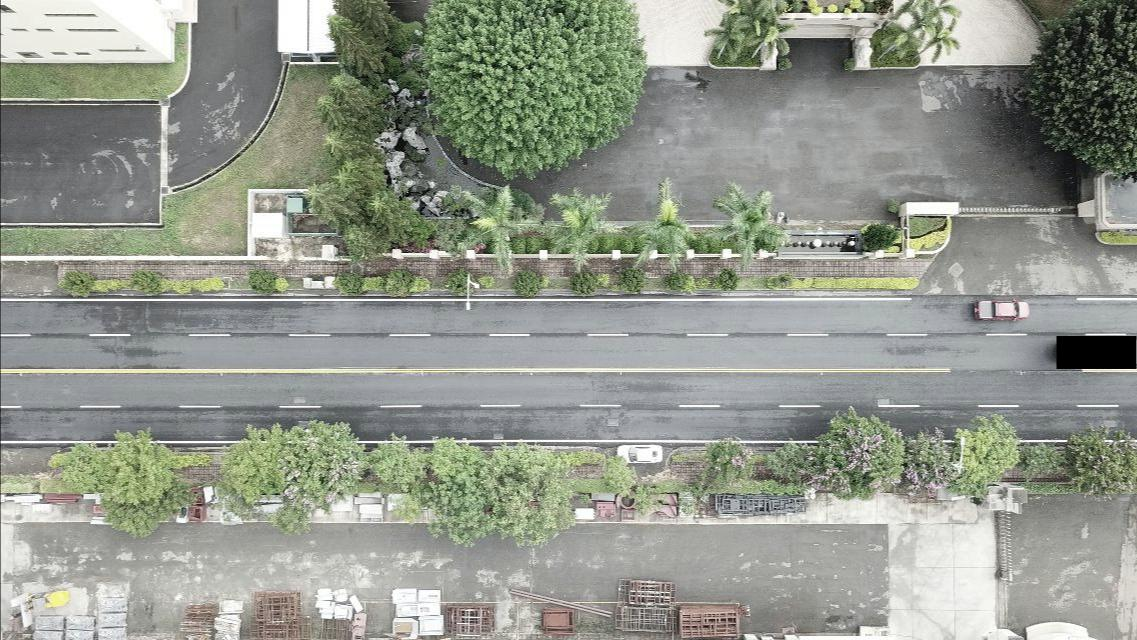vehicle: (968, 297, 1030, 322), (615, 442, 665, 463)
